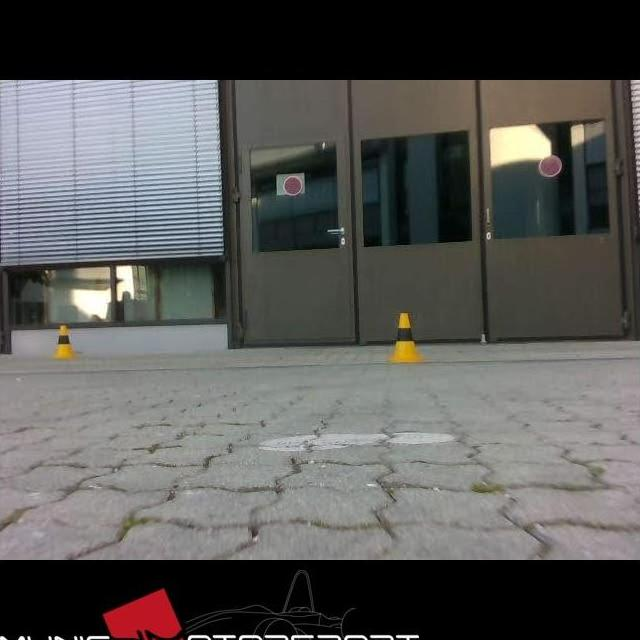Safety Cone: (386, 314, 425, 363), (51, 326, 77, 359)
